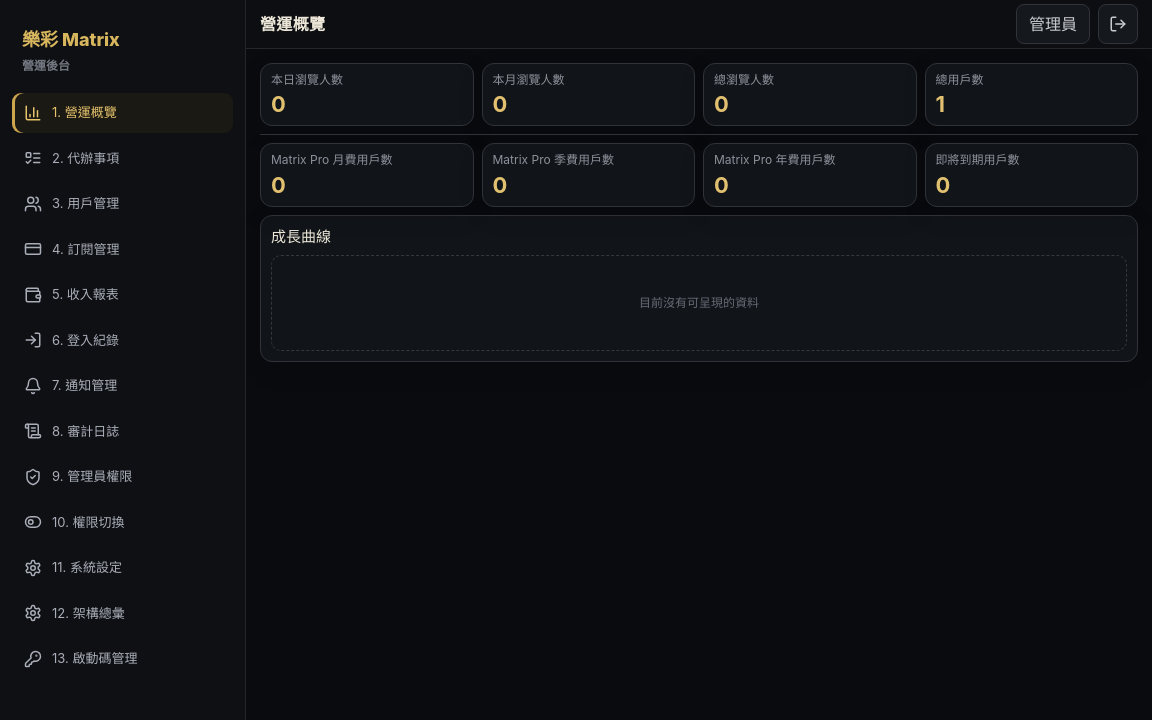
Test: subscription expiry save recovery › keeps an empty date editable and explains the correction before confirmation or a write
Click the button "4. 訂閱管理": coordinates (122, 249) [12,230,233,269]
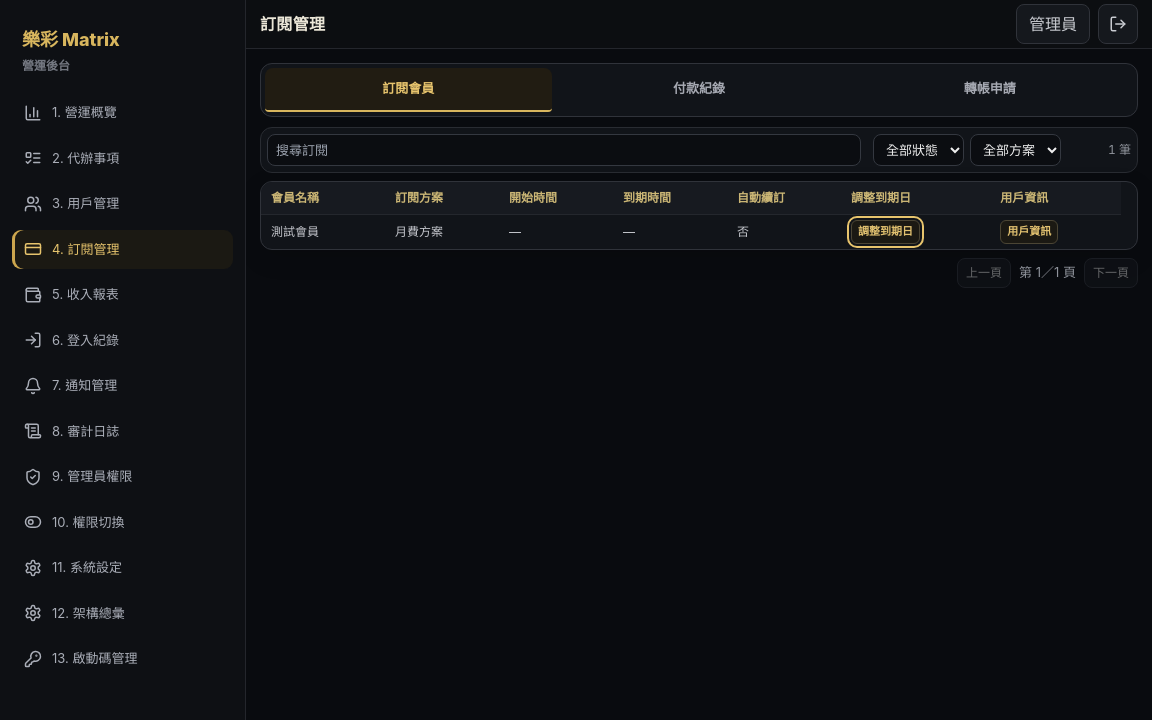
Click the button "調整到期日": coordinates (886, 232) [851,220,920,244]
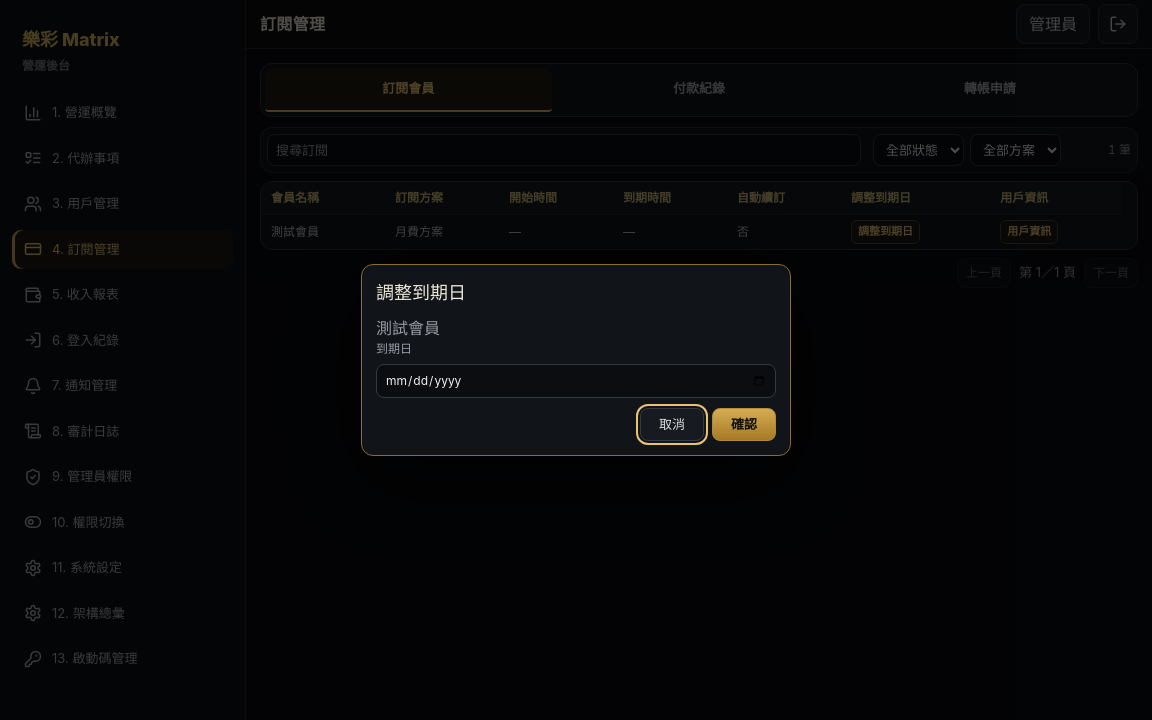
Click the button "確認": coordinates (744, 425) [712,408,776,441]
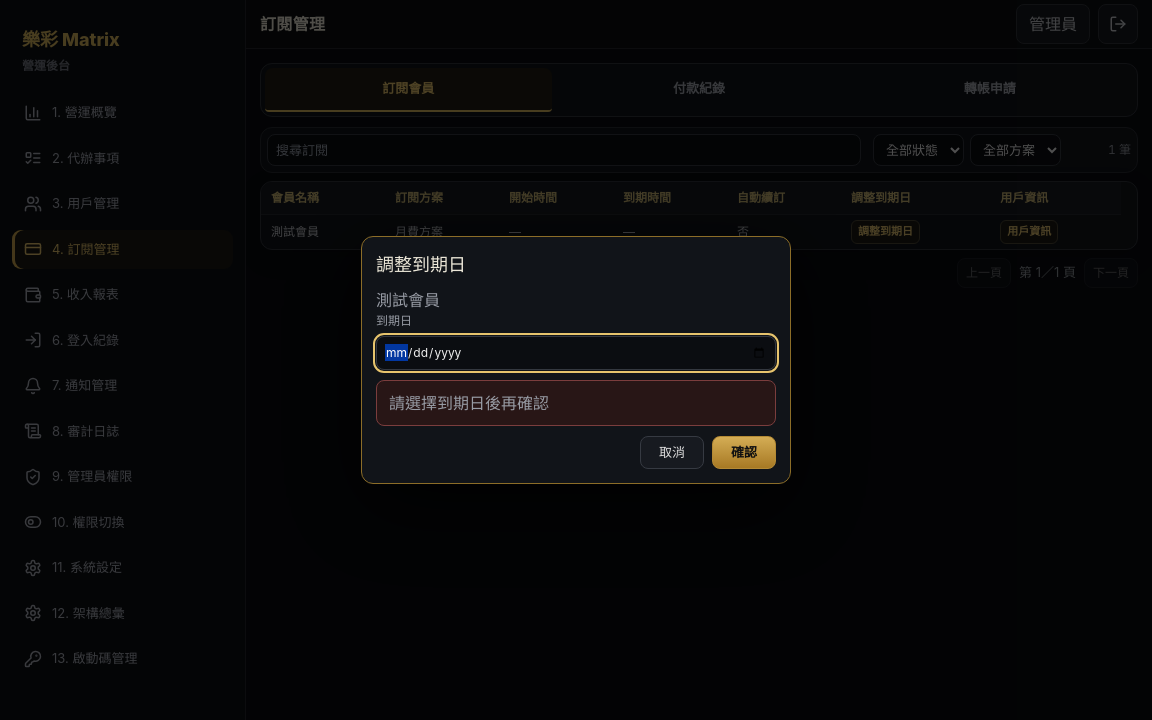
Check: the message shows "請選擇到期日", box [389,393,549,413]
